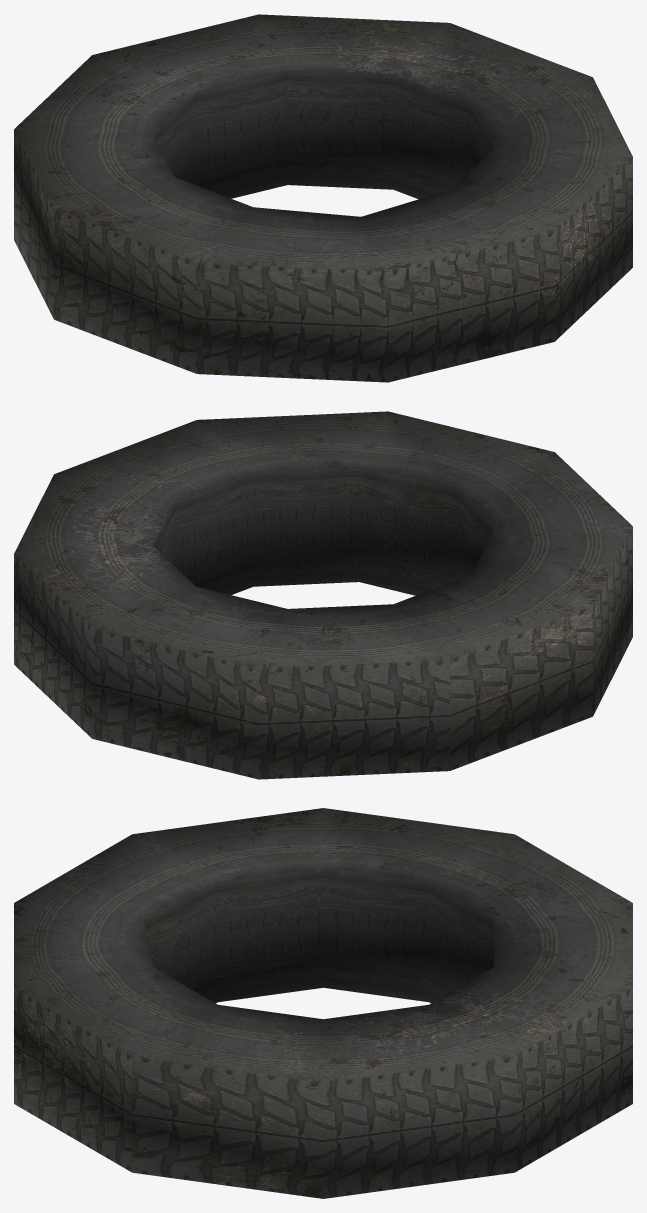
File: Tire_LOD2.fbx
The picture shows the model from 3 angles, top to bottom: view 1: azimuth 30°, elevation 25°; view 2: azimuth 150°, elevation 25°; view 3: azimuth 270°, elevation 25°; orthographic projection. The views are drawn at different scales.
Visible parts, largest first — view 1: polySurface5; view 2: polySurface5; view 3: polySurface5.
Boxes of the visible parts, bbox=[...] form: polySurface5: bbox=[14, 14, 632, 382]; polySurface5: bbox=[14, 411, 632, 779]; polySurface5: bbox=[14, 808, 632, 1198].
Size of the model in its own units: 1.34 by 0.2745 by 1.28.
